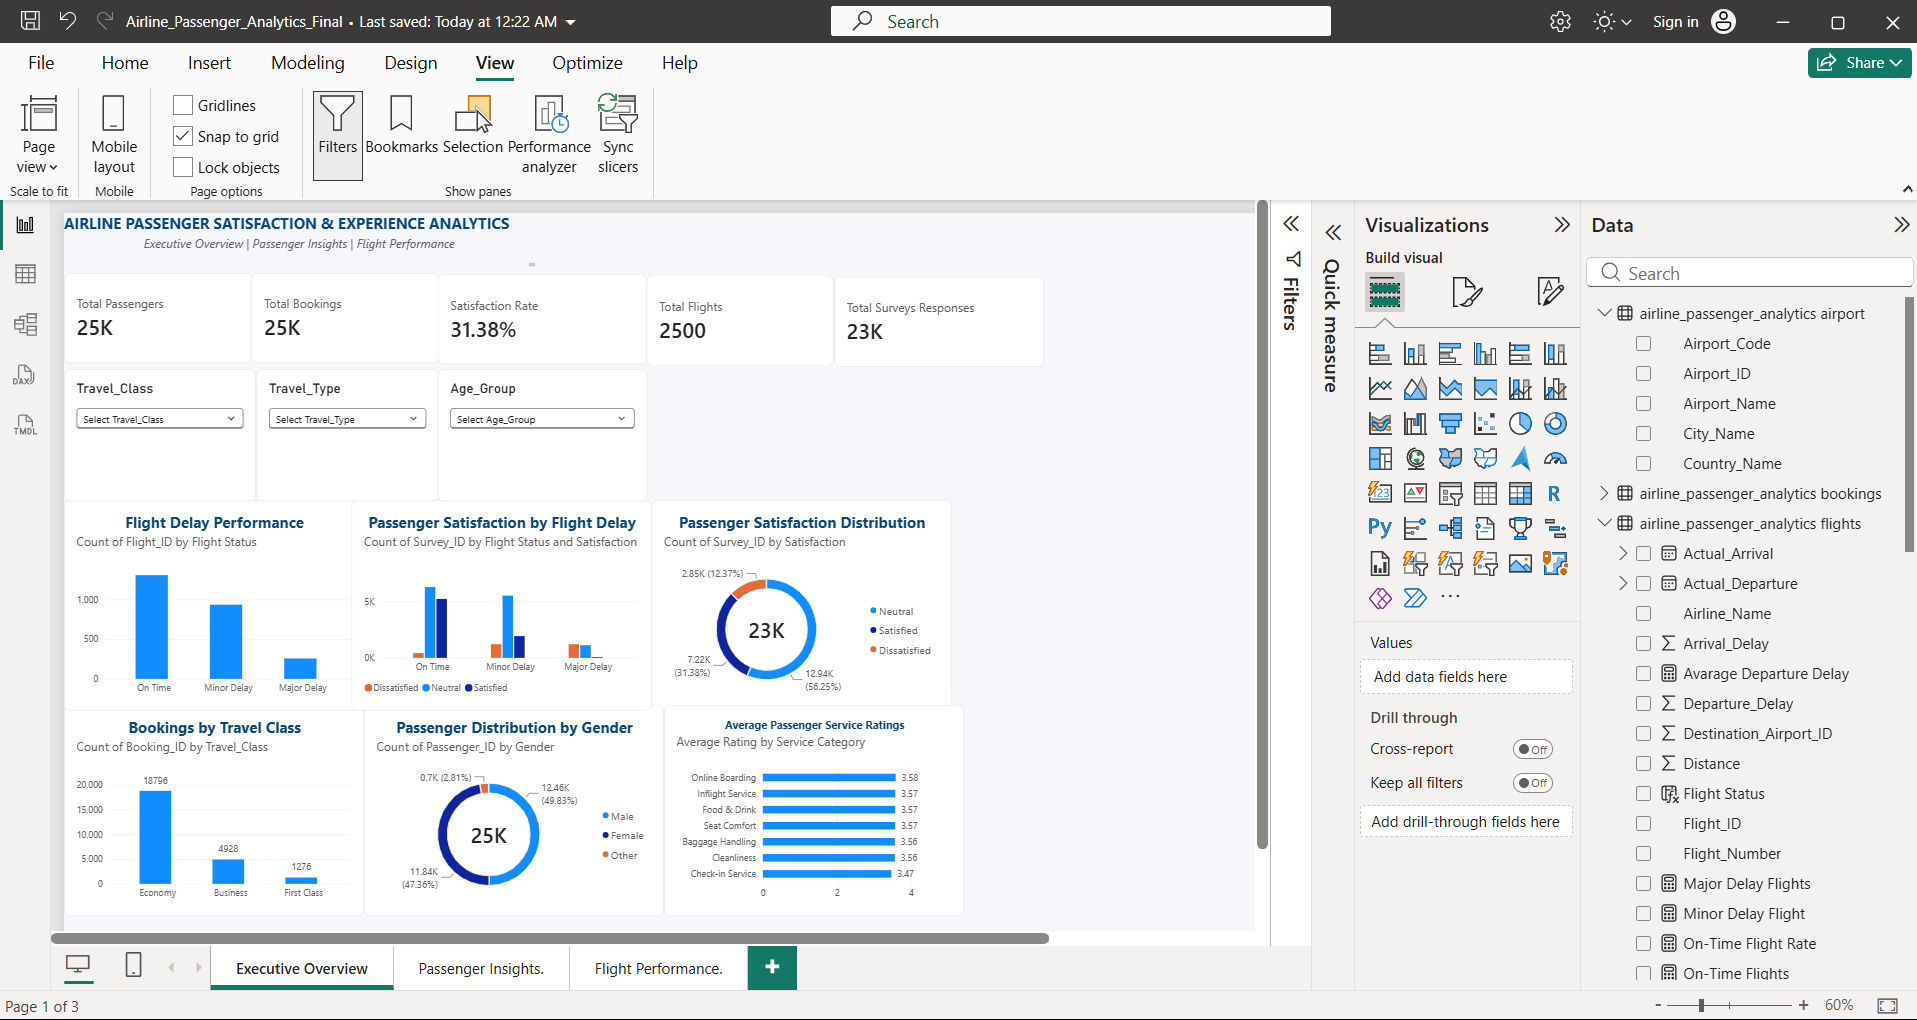

What the dashboard file says about the page in this screenshot:
{"tool":"powerbi","page":{"name":"Executive Overview","canvas":[1920,1080],"ordinal":0},"visuals":[{"type":"cardVisual","fields":{"Data":["airline_passenger_analytics passengers.Total Passengers"]},"box":[0,80.5,250,120],"z":0},{"type":"cardVisual","fields":{"Data":["airline_passenger_analytics bookings.total Bookings"]},"box":[249.5,80.5,250,120],"z":1000},{"type":"cardVisual","fields":{"Data":["airline_passenger_analytics flights.Total Flights"]},"box":[777.5,83.7,250,120],"z":2000},{"type":"cardVisual","fields":{"Data":["airline_passenger_analytics passenger_surveys.Total Surveys"]},"box":[1027,85.3,280,120],"z":3000},{"type":"cardVisual","fields":{"Data":["airline_passenger_analytics passenger_surveys.Satisfaction Rate"]},"box":[499,82.1,279,120],"z":4000},{"type":"donutChart","title":"Passenger Satisfaction Distribution","fields":{"Category":["airline_passenger_analytics passenger_surveys.Satisfaction"],"Y":["CountNonNull(airline_passenger_analytics passenger_surveys.Survey_ID)"]},"box":[784,384,400,280],"z":5000},{"type":"clusteredColumnChart","title":"Bookings by Travel Class","fields":{"Category":["airline_passenger_analytics bookings.Travel_Class"],"Y":["CountNonNull(airline_passenger_analytics bookings.Booking_ID)"]},"box":[0,656,400,280],"z":6000},{"type":"donutChart","title":"Passenger Distribution by Gender","fields":{"Category":["airline_passenger_analytics passengers.Gender"],"Y":["CountNonNull(airline_passenger_analytics passengers.Passenger_ID)"]},"box":[400,656,400,280],"z":7000},{"type":"clusteredColumnChart","title":"Flight Delay Performance","fields":{"Category":["airline_passenger_analytics flights.Flight Status"],"Y":["CountNonNull(airline_passenger_analytics flights.Flight_ID)"]},"box":[0,384,400,280],"z":8000},{"type":"clusteredColumnChart","title":"Passenger Satisfaction by Flight Delay","fields":{"Category":["airline_passenger_analytics flights.Flight Status"],"Series":["airline_passenger_analytics passenger_surveys.Satisfaction"],"Y":["CountNonNull(airline_passenger_analytics passenger_surveys.Survey_ID)"]},"box":[384,384,400,280],"z":9000},{"type":"clusteredBarChart","title":"Average Passenger Service Ratings","fields":{"Category":["Service Categories.Service"],"Y":["airline_passenger_analytics passenger_surveys.Average Service Rating"]},"box":[800,656,400,280],"z":10000},{"type":"textbox","box":[1210,819,400,261],"z":11000},{"type":"textbox","title":"AIRLINE PASSENGER SATISFACTION & EXPERIENCE ANALYTICS","box":[0,0,627.8,70.8],"z":12000},{"type":"listSlicer","fields":{"Values":["airline_passenger_analytics bookings.Travel_Class"]},"box":[0,208,256,176],"z":13000},{"type":"listSlicer","fields":{"Values":["airline_passenger_analytics bookings.Travel_Type"]},"box":[256,208,243,176],"z":14000},{"type":"listSlicer","fields":{"Values":["airline_passenger_analytics passengers.Age_Group"]},"box":[499,208,279,176],"z":15000}]}

Visuals, with their boxes on the page's 1920x1080 design canvas (x1, y1, x2, y2). These are canvas units, not pixel positions in the 1917x1020 screenshot, which may show the page scaled, cropped or inside an application window:
cardVisual - airline_passenger_analytics passengers.Total Passengers: l=0, t=80, r=250, b=200
cardVisual - airline_passenger_analytics bookings.total Bookings: l=250, t=80, r=500, b=200
cardVisual - airline_passenger_analytics flights.Total Flights: l=778, t=84, r=1028, b=204
cardVisual - airline_passenger_analytics passenger_surveys.Total Surveys: l=1027, t=85, r=1307, b=205
cardVisual - airline_passenger_analytics passenger_surveys.Satisfaction Rate: l=499, t=82, r=778, b=202
"Passenger Satisfaction Distribution" donutChart: l=784, t=384, r=1184, b=664
"Bookings by Travel Class" clusteredColumnChart: l=0, t=656, r=400, b=936
"Passenger Distribution by Gender" donutChart: l=400, t=656, r=800, b=936
"Flight Delay Performance" clusteredColumnChart: l=0, t=384, r=400, b=664
"Passenger Satisfaction by Flight Delay" clusteredColumnChart: l=384, t=384, r=784, b=664
"Average Passenger Service Ratings" clusteredBarChart: l=800, t=656, r=1200, b=936
textbox: l=1210, t=819, r=1610, b=1080
"AIRLINE PASSENGER SATISFACTION & EXPERIENCE ANALYTICS" textbox: l=0, t=0, r=628, b=71
listSlicer - airline_passenger_analytics bookings.Travel_Class: l=0, t=208, r=256, b=384
listSlicer - airline_passenger_analytics bookings.Travel_Type: l=256, t=208, r=499, b=384
listSlicer - airline_passenger_analytics passengers.Age_Group: l=499, t=208, r=778, b=384
